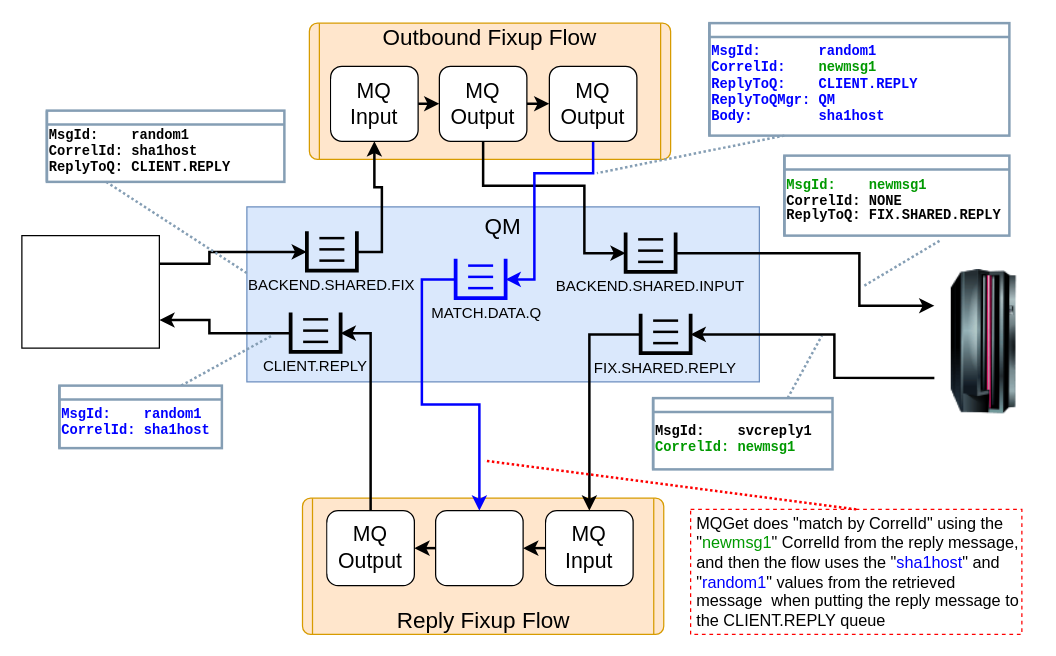
Image size: 1056x656. Some labels were removed from this diagram. Each missing label, with the centre of its shape:
"Back-end service" belongs at point (984, 341).
"MQGet" belongs at point (478, 547).
"Originating HTTP client" belongs at point (90, 291).
